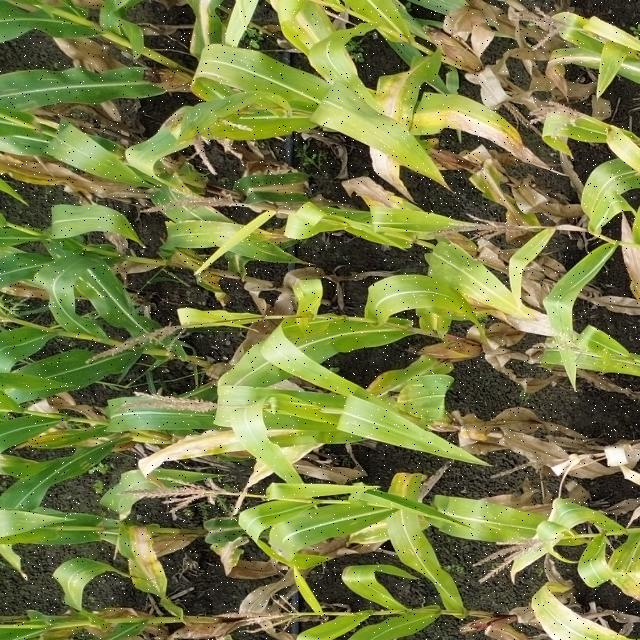gray-leaf-spot: (533, 320, 640, 388), (427, 250, 518, 324), (0, 76, 74, 137), (577, 156, 637, 230), (57, 262, 142, 314), (12, 454, 98, 495)
northern-leaf-blight: (404, 88, 539, 168), (364, 48, 436, 190), (101, 519, 199, 616)
southern-leaf-blight: (454, 492, 552, 558), (167, 213, 297, 257)
